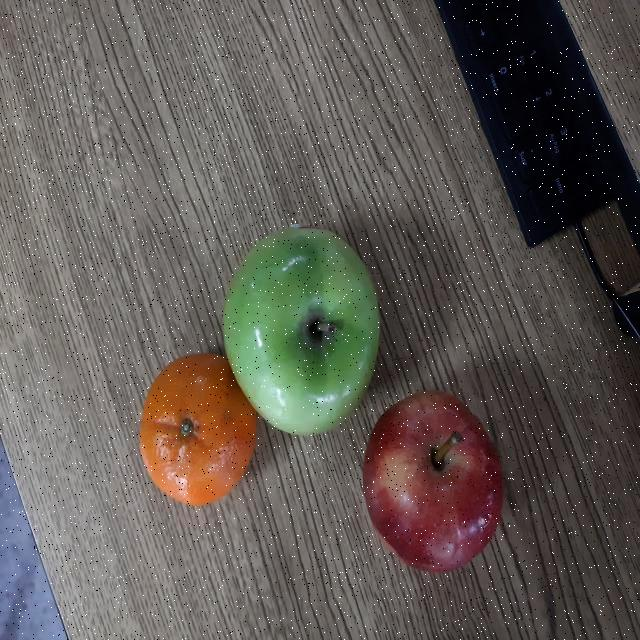Apel Gala: (360, 386, 508, 576)
Apel Granny Smith: (220, 221, 384, 437)
Jeruk Mandarin: (137, 346, 260, 508)
